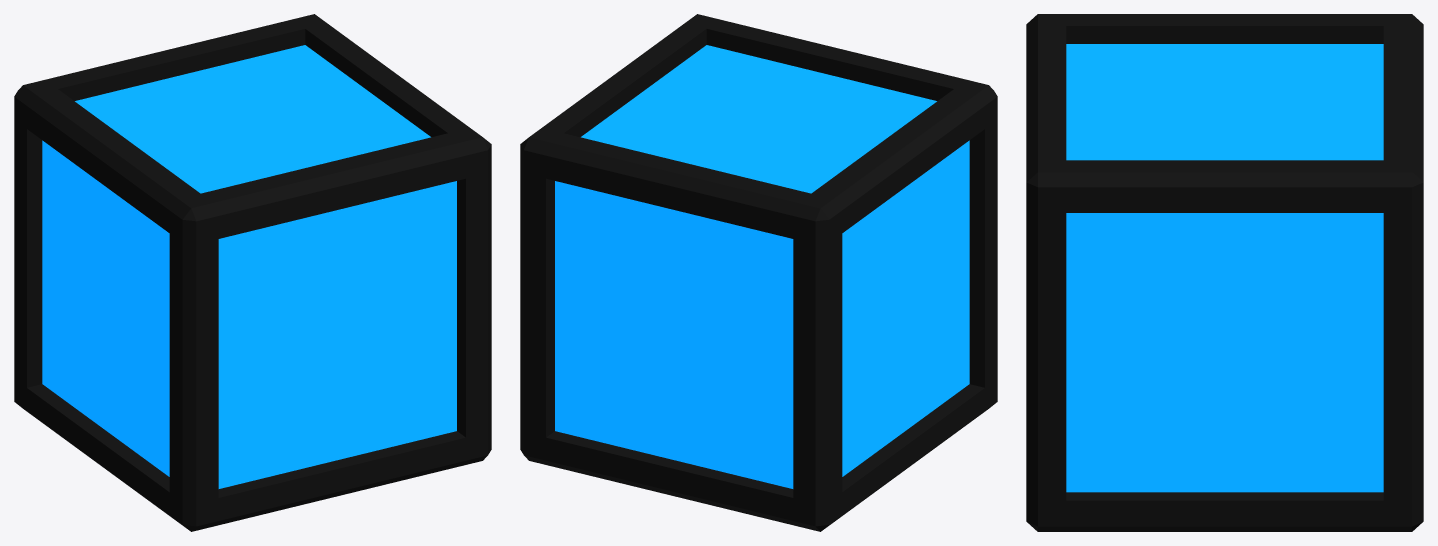
File: CupAndCube.fbx
3 views of the same model, side by side, from view 1: azimuth 30°, elevation 25°; view 2: azimuth 150°, elevation 25°; view 3: azimuth 270°, elevation 25° (orthographic). The views are drawn at different scales.
Parts seen in each view (by area): view 1: Cube.001; view 2: Cube.001; view 3: Cube.001.
Part boxes in pixels (box(x1,y1,x2,y2)): Cube.001: box(14, 14, 491, 531); Cube.001: box(520, 14, 997, 531); Cube.001: box(1026, 14, 1423, 531).
Size of the model in its own units: 200 by 200 by 200.
